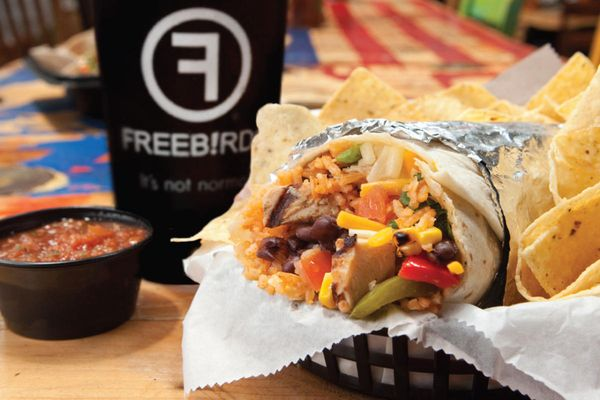sushi: (0, 205, 154, 341)
